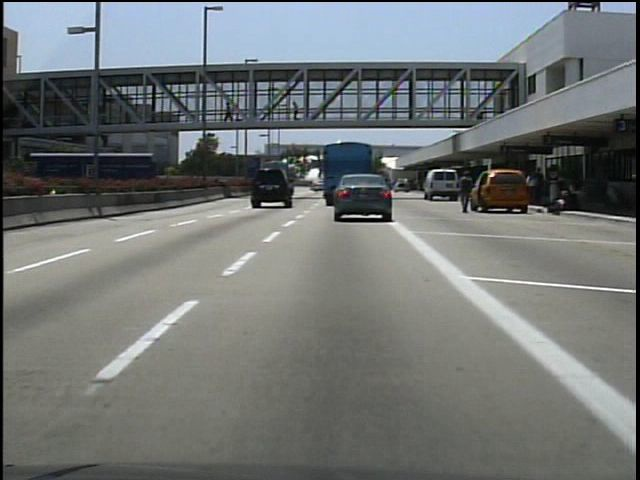person: (456, 169, 478, 219), (290, 101, 304, 128), (221, 99, 236, 124)
